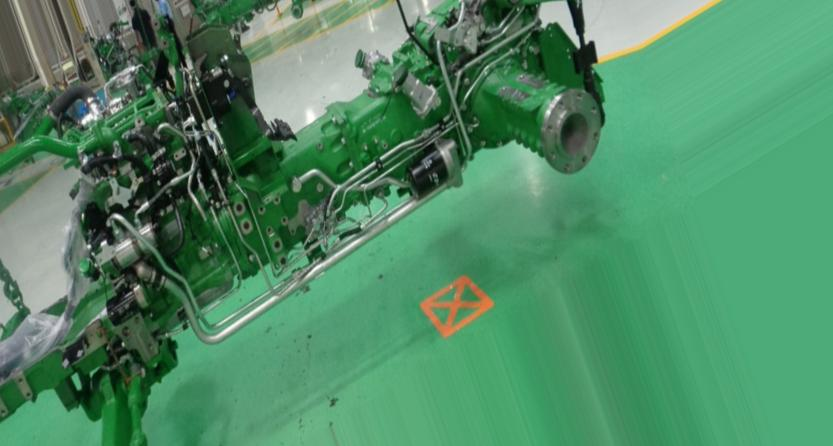engine: (0, 0, 605, 446)
